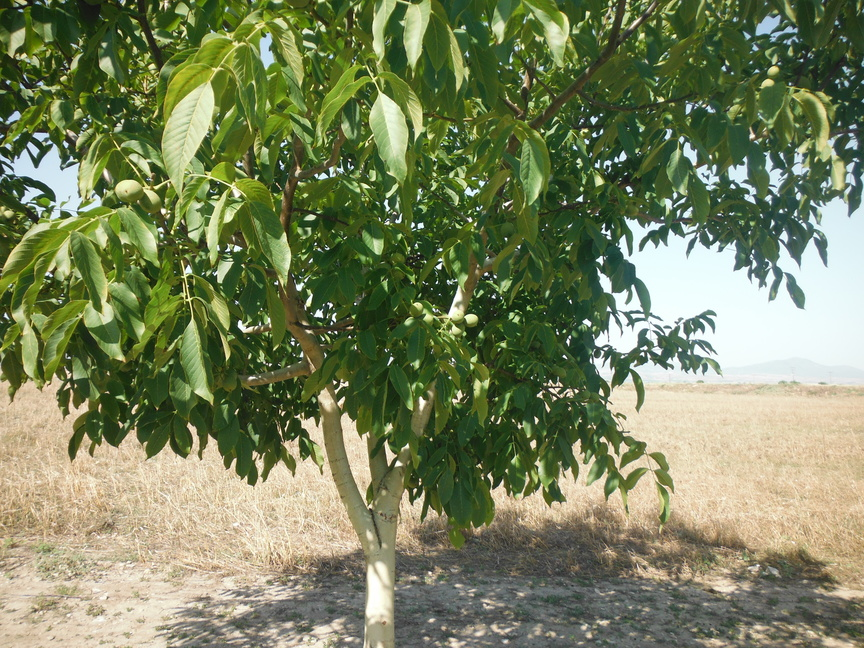walnut: (112, 175, 145, 205), (135, 184, 163, 218), (786, 74, 815, 93), (483, 119, 505, 141), (621, 200, 642, 219), (765, 61, 783, 83), (499, 219, 516, 240), (408, 298, 424, 320), (388, 249, 407, 267), (462, 311, 482, 328), (415, 312, 436, 328), (757, 77, 778, 93), (402, 315, 420, 333), (1, 211, 20, 227), (222, 375, 238, 394), (389, 266, 408, 282), (450, 321, 468, 337), (577, 126, 594, 141), (448, 308, 466, 322), (579, 386, 594, 401), (225, 367, 241, 380), (591, 347, 605, 361), (406, 476, 419, 490), (528, 338, 542, 351), (555, 366, 569, 379), (589, 390, 602, 404), (550, 363, 562, 376), (0, 204, 9, 218), (469, 453, 480, 464)
